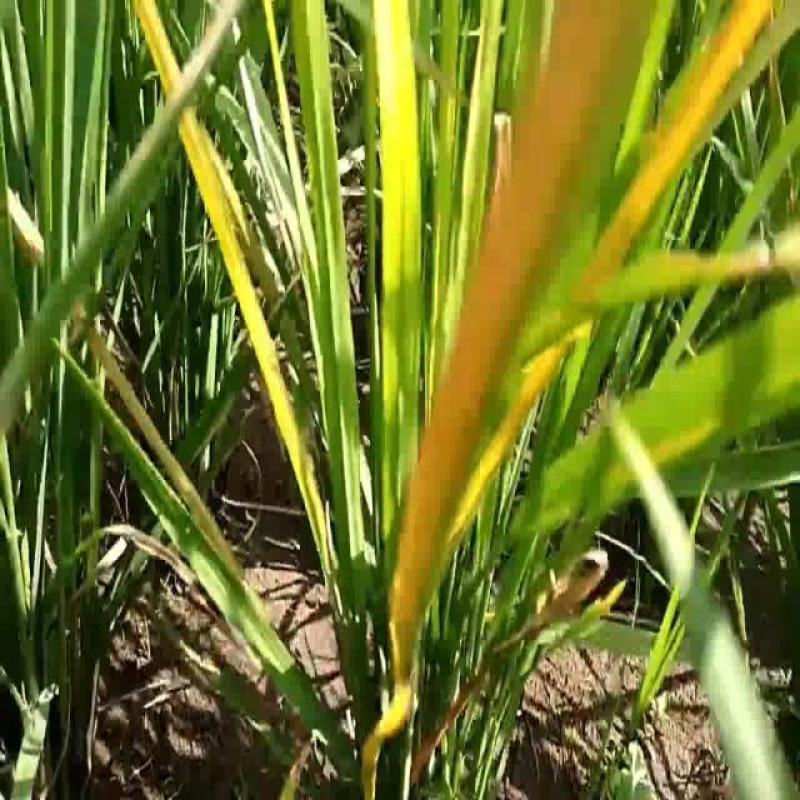Rice Tungro: (398, 15, 658, 539), (566, 2, 784, 306), (132, 4, 268, 365), (371, 3, 429, 328)
